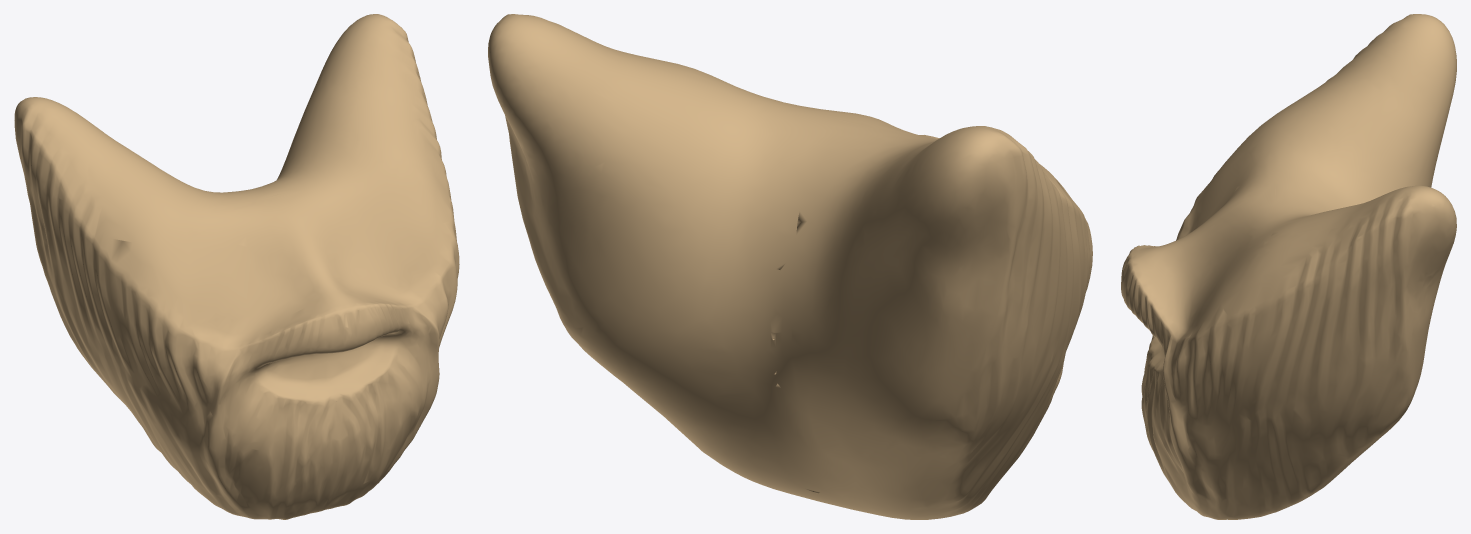
Rendered from beard maker.fbx.
3 views of the same model, side by side, from view 1: azimuth 30°, elevation 25°; view 2: azimuth 150°, elevation 25°; view 3: azimuth 270°, elevation 25° (orthographic). The views are drawn at different scales.
Visible parts, largest first — view 1: Cube; view 2: Cube; view 3: Cube.
Boxes of the visible parts, bbox=[...] form: Cube: bbox=[14, 14, 459, 519]; Cube: bbox=[488, 14, 1092, 519]; Cube: bbox=[1121, 14, 1456, 519].
Bounding box in the file's own units: 17.66 × 16.4 × 12.76.
